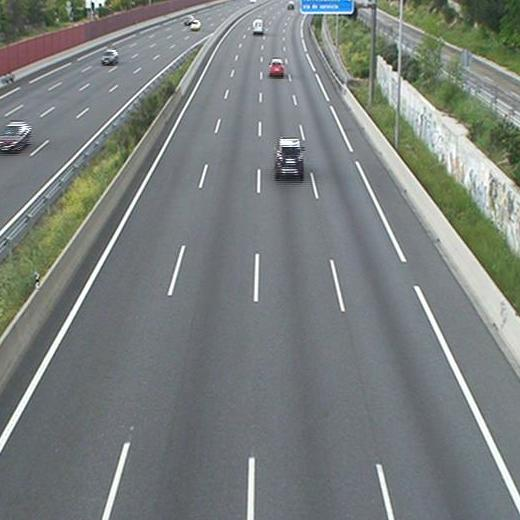car: (272, 136, 305, 182), (268, 58, 285, 76)
van: (253, 19, 264, 35)
